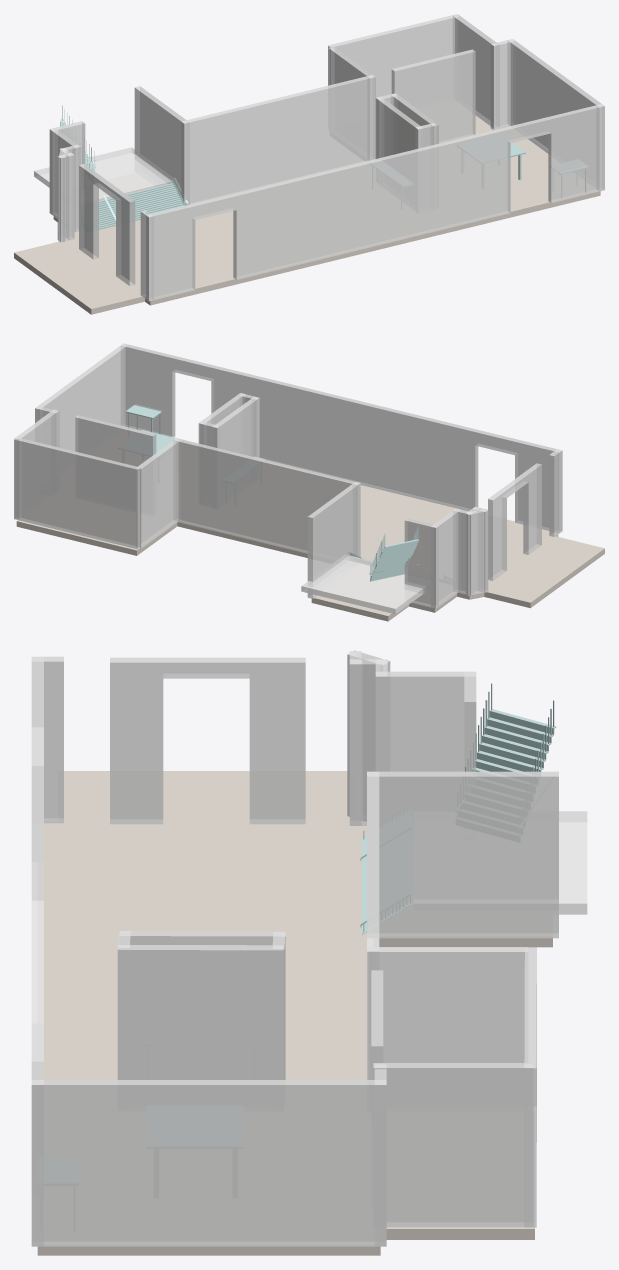
Rendered from sixthfloor.glb.
The picture shows the model from 3 angles, top to bottom: view 1: azimuth 30°, elevation 25°; view 2: azimuth 150°, elevation 25°; view 3: azimuth 270°, elevation 25°; orthographic projection. The views are drawn at different scales.
Visible parts, largest first — view 1: wall_79458473_B92D_4D6B_9BF5_1D9A8AC83BF6, wall_20F40086_77F6_4B9F_B1F3_7AF162817412, floor_CDFB015C_1192_4FF8_8B94_885ED0B93E95, wall_A36336CC_24F6_4801_A329_260E5FBA84FD, wall_557681BE_8C97_4F93_8CB7_FAF19025E00F, wall_DF0DCCF5_9021_4799_A23A_B968F3F4F356.003, wall_FC73E6F7_F2F7_4D3E_A2B3_EE8797E06D22, wall_32729076_4469_481A_9587_210A178E6E19, wall_DF0DCCF5_9021_4799_A23A_B968F3F4F356.002, wall_587AF2FB_2207_48C7_AFB6_B9E2E2C506E4, wall_17EC48A4_1D76_43F4_AD04_4B60F06F253C, wall_2A47F00F_C2EF_4A73_97A1_CD1D4018CD5B (+12 smaller); view 2: wall_79458473_B92D_4D6B_9BF5_1D9A8AC83BF6, wall_20F40086_77F6_4B9F_B1F3_7AF162817412, floor_CDFB015C_1192_4FF8_8B94_885ED0B93E95, wall_DF0DCCF5_9021_4799_A23A_B968F3F4F356.003, wall_A36336CC_24F6_4801_A329_260E5FBA84FD, wall_FC73E6F7_F2F7_4D3E_A2B3_EE8797E06D22, wall_587AF2FB_2207_48C7_AFB6_B9E2E2C506E4, wall_DF0DCCF5_9021_4799_A23A_B968F3F4F356.001, wall_32729076_4469_481A_9587_210A178E6E19, wall_557681BE_8C97_4F93_8CB7_FAF19025E00F, wall_39CDF5DB_C192_4480_8725_CDF045B4A958, wall_DB8737D2_9C52_4BB9_B9D7_7B73D76E22FB (+13 smaller); view 3: floor_CDFB015C_1192_4FF8_8B94_885ED0B93E95, wall_A36336CC_24F6_4801_A329_260E5FBA84FD, wall_FC73E6F7_F2F7_4D3E_A2B3_EE8797E06D22, wall_DF0DCCF5_9021_4799_A23A_B968F3F4F356.002, wall_1B9286BB_4C4B_4FA8_8E11_B799F3E4D2B9, wall_32729076_4469_481A_9587_210A178E6E19, wall_DF0DCCF5_9021_4799_A23A_B968F3F4F356.001, wall_DB8737D2_9C52_4BB9_B9D7_7B73D76E22FB, wall_79458473_B92D_4D6B_9BF5_1D9A8AC83BF6, wall_587AF2FB_2207_48C7_AFB6_B9E2E2C506E4, Obj_Stair, wall_3152C9F0_7C46_4412_B522_BD7363980CC8 (+12 smaller).
Part boxes in pixels (x1,y1,x2,y2): wall_79458473_B92D_4D6B_9BF5_1D9A8AC83BF6: (146,104,604,301); wall_20F40086_77F6_4B9F_B1F3_7AF162817412: (181,75,375,204); floor_CDFB015C_1192_4FF8_8B94_885ED0B93E95: (14,115,600,314); wall_A36336CC_24F6_4801_A329_260E5FBA84FD: (507,39,604,191); wall_557681BE_8C97_4F93_8CB7_FAF19025E00F: (391,49,475,143); wall_DF0DCCF5_9021_4799_A23A_B968F3F4F356.003: (328,14,459,97); wall_FC73E6F7_F2F7_4D3E_A2B3_EE8797E06D22: (134,86,189,204); wall_32729076_4469_481A_9587_210A178E6E19: (79,164,135,285); wall_DF0DCCF5_9021_4799_A23A_B968F3F4F356.002: (453,14,499,128); wall_587AF2FB_2207_48C7_AFB6_B9E2E2C506E4: (34,147,173,200); wall_17EC48A4_1D76_43F4_AD04_4B60F06F253C: (490,39,515,130); wall_2A47F00F_C2EF_4A73_97A1_CD1D4018CD5B: (375,96,423,158); wall_79458473_B92D_4D6B_9BF5_1D9A8AC83BF6: (121,343,562,532); wall_20F40086_77F6_4B9F_B1F3_7AF162817412: (173,438,360,556); floor_CDFB015C_1192_4FF8_8B94_885ED0B93E95: (16,485,604,621); wall_DF0DCCF5_9021_4799_A23A_B968F3F4F356.003: (14,437,140,549); wall_A36336CC_24F6_4801_A329_260E5FBA84FD: (35,343,128,451); wall_FC73E6F7_F2F7_4D3E_A2B3_EE8797E06D22: (307,482,360,598); wall_587AF2FB_2207_48C7_AFB6_B9E2E2C506E4: (301,554,426,614); wall_DF0DCCF5_9021_4799_A23A_B968F3F4F356.001: (136,439,180,548); wall_32729076_4469_481A_9587_210A178E6E19: (488,463,541,580); wall_557681BE_8C97_4F93_8CB7_FAF19025E00F: (75,415,156,466); wall_39CDF5DB_C192_4480_8725_CDF045B4A958: (404,518,438,608); wall_DB8737D2_9C52_4BB9_B9D7_7B73D76E22FB: (431,508,460,608); floor_CDFB015C_1192_4FF8_8B94_885ED0B93E95: (37,771,552,1255); wall_A36336CC_24F6_4801_A329_260E5FBA84FD: (31,1080,386,1246); wall_FC73E6F7_F2F7_4D3E_A2B3_EE8797E06D22: (367,771,558,938); wall_DF0DCCF5_9021_4799_A23A_B968F3F4F356.002: (373,1063,533,1227); wall_1B9286BB_4C4B_4FA8_8E11_B799F3E4D2B9: (117,945,283,1079); wall_32729076_4469_481A_9587_210A178E6E19: (110,657,305,824); wall_DF0DCCF5_9021_4799_A23A_B968F3F4F356.001: (368,947,527,1079); wall_DB8737D2_9C52_4BB9_B9D7_7B73D76E22FB: (375,671,476,771); wall_79458473_B92D_4D6B_9BF5_1D9A8AC83BF6: (31,656,43,1246); wall_587AF2FB_2207_48C7_AFB6_B9E2E2C506E4: (413,811,587,914); Obj_Stair: (465,683,556,771); wall_3152C9F0_7C46_4412_B522_BD7363980CC8: (31,656,63,823).
Bounding box in the file's own units: 18.67 × 3.2 × 9.2.
